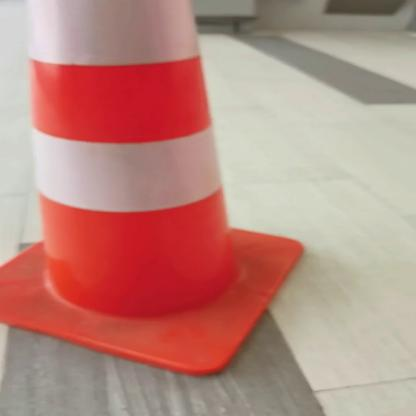cone: (0, 1, 309, 383)
